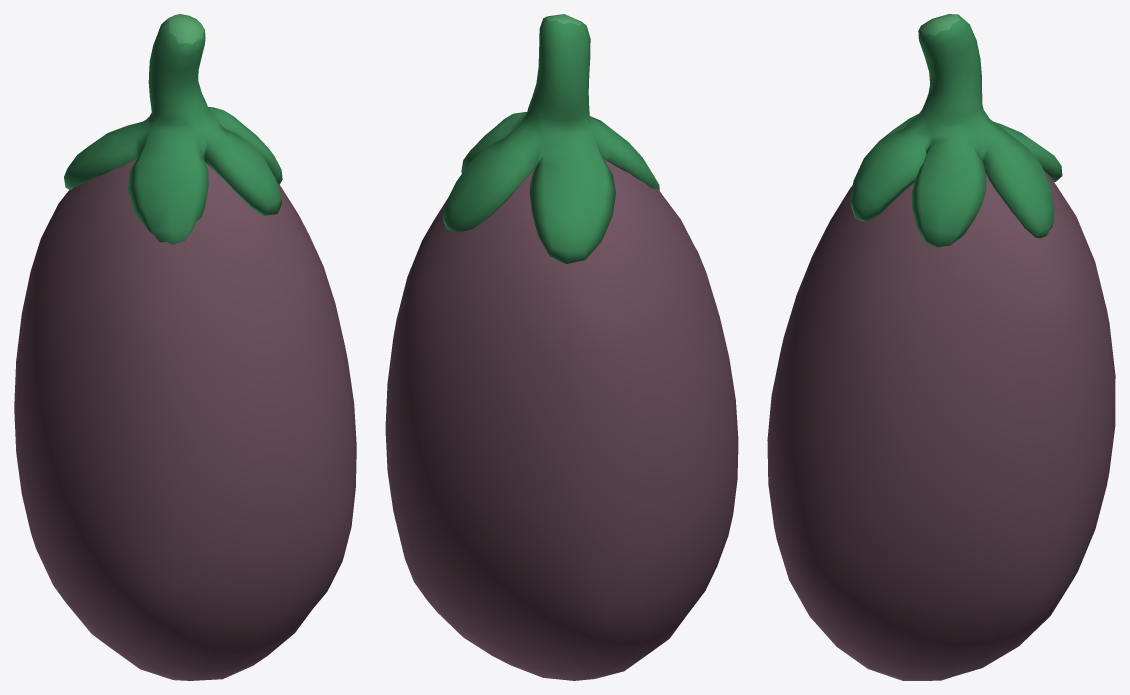
The model's file is Aubergine_01.dae.
3 renders of one model, left to right at view 1: azimuth 30°, elevation 25°; view 2: azimuth 150°, elevation 25°; view 3: azimuth 270°, elevation 25°, orthographic. The views are drawn at different scales.
Visible parts, largest first — view 1: Aubergine_01_LOD0; view 2: Aubergine_01_LOD0; view 3: Aubergine_01_LOD0.
Boxes of the visible parts, <box> form: Aubergine_01_LOD0: <box>14,14,356,680</box>; Aubergine_01_LOD0: <box>385,14,738,680</box>; Aubergine_01_LOD0: <box>767,14,1115,680</box>.
Size of what is drawn, in the model's own units: 2.7 by 2.78 by 5.75.
